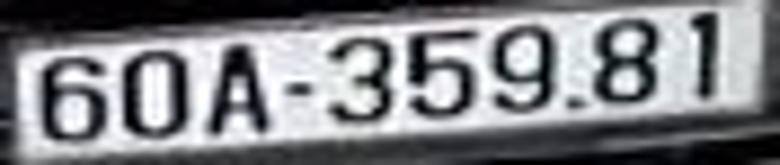-: (282, 79, 314, 97)
.: (564, 94, 582, 109)
0: (121, 50, 186, 135)
1: (691, 11, 721, 99)
3: (327, 36, 392, 125)
5: (405, 29, 474, 118)
6: (41, 56, 109, 142)
8: (595, 19, 655, 102)
9: (494, 26, 550, 112)
A: (209, 43, 268, 139)
